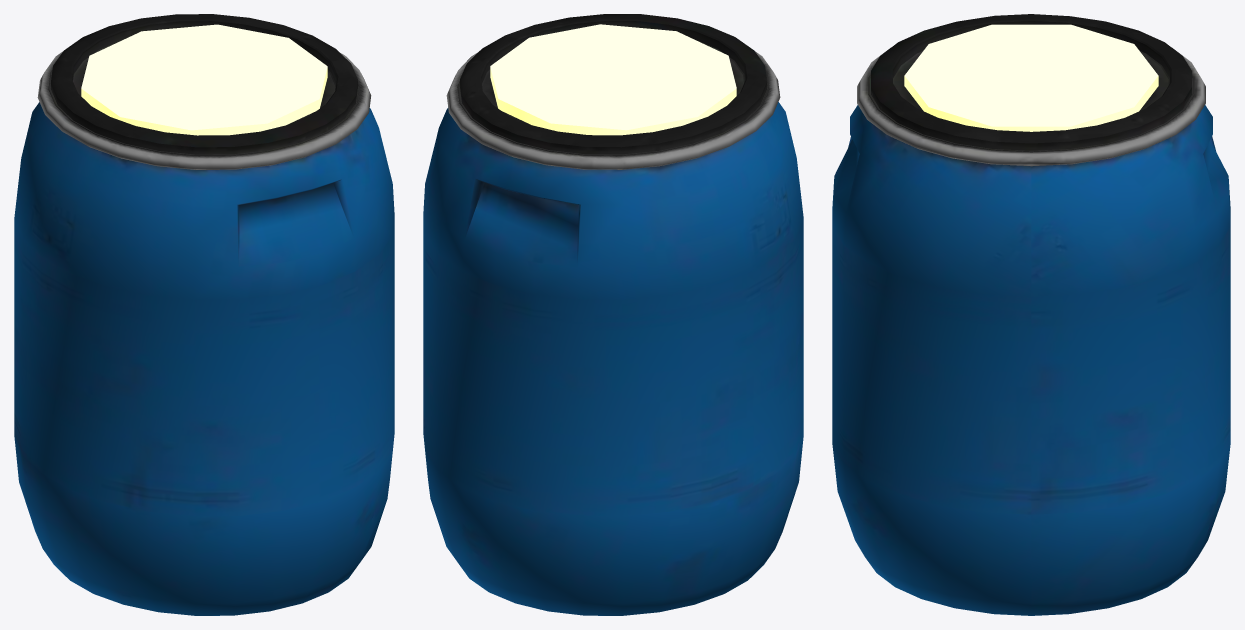
File: toxic_drum.glb
3 renders of one model, left to right at view 1: azimuth 30°, elevation 25°; view 2: azimuth 150°, elevation 25°; view 3: azimuth 270°, elevation 25°, orthographic.
Bounding box in the file's own units: 0.894 × 1.25 × 0.94.
Materials: 2 (1 with a texture image).
